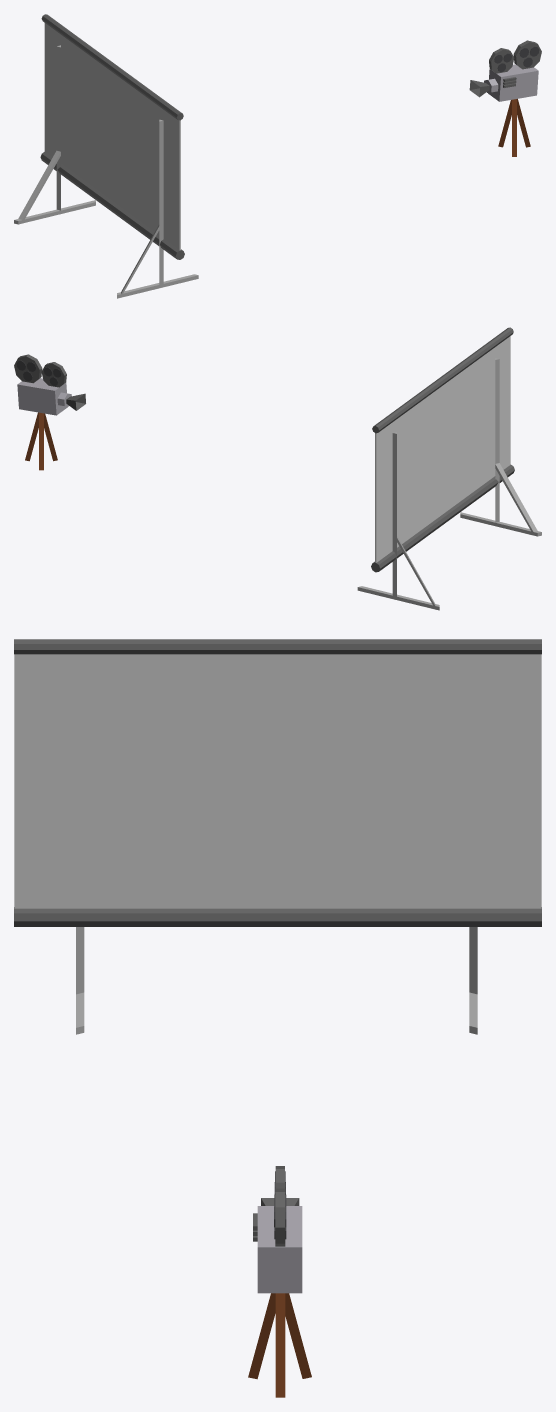
The model's file is lights.obj.
The picture shows the model from 3 angles, top to bottom: view 1: azimuth 30°, elevation 25°; view 2: azimuth 150°, elevation 25°; view 3: azimuth 270°, elevation 25°; orthographic projection. The views are drawn at different scales.
Parts seen in each view (by area): view 1: Cube.001, Cylinder.007_Cylinder.004, Cylinder.008_Cylinder.006, Cylinder.009, Cube, Cylinder.013, Cylinder.005_Cylinder.008; view 2: Cube.001, Cylinder.007_Cylinder.004, Cylinder.008_Cylinder.006, Cylinder.009, Cube, Cylinder.013, Cylinder.005_Cylinder.008; view 3: Cube.001, Cylinder.009, Cylinder.008_Cylinder.006, Cube, Cylinder.007_Cylinder.004, Cylinder.003_Cylinder.005.
Boxes of the visible parts, x1,y1,x2,y2 form: Cube.001: (44, 23, 180, 250); Cylinder.007_Cylinder.004: (14, 45, 198, 298); Cylinder.008_Cylinder.006: (41, 14, 183, 120); Cylinder.009: (40, 152, 184, 259); Cube: (488, 64, 538, 101); Cylinder.013: (513, 40, 541, 69); Cylinder.005_Cylinder.008: (489, 48, 514, 73); Cube.001: (375, 336, 510, 562); Cylinder.007_Cylinder.004: (357, 358, 541, 610); Cylinder.008_Cylinder.006: (372, 327, 513, 433); Cylinder.009: (371, 464, 514, 572); Cube: (17, 378, 67, 415); Cylinder.013: (14, 354, 42, 383); Cylinder.005_Cylinder.008: (41, 362, 66, 387); Cube.001: (14, 654, 541, 908); Cylinder.009: (14, 907, 541, 926); Cylinder.008_Cylinder.006: (14, 639, 541, 654); Cube: (257, 1206, 302, 1293); Cylinder.007_Cylinder.004: (76, 927, 477, 1034); Cylinder.003_Cylinder.005: (275, 1293, 285, 1397).
Size of the model in its own units: 28.17 by 10.49 by 13.85.
